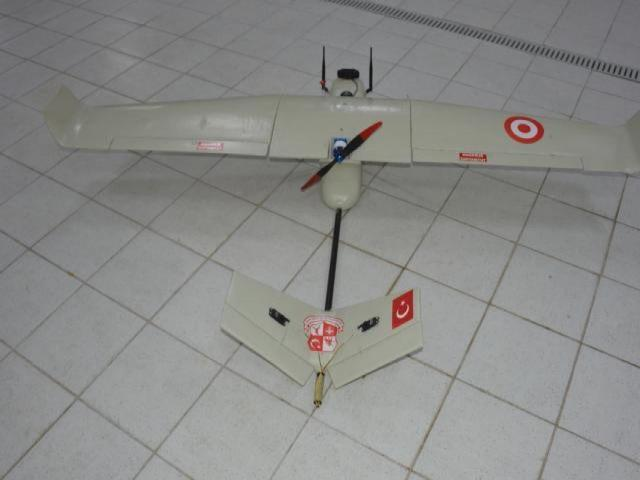iha: (42, 44, 639, 408)
